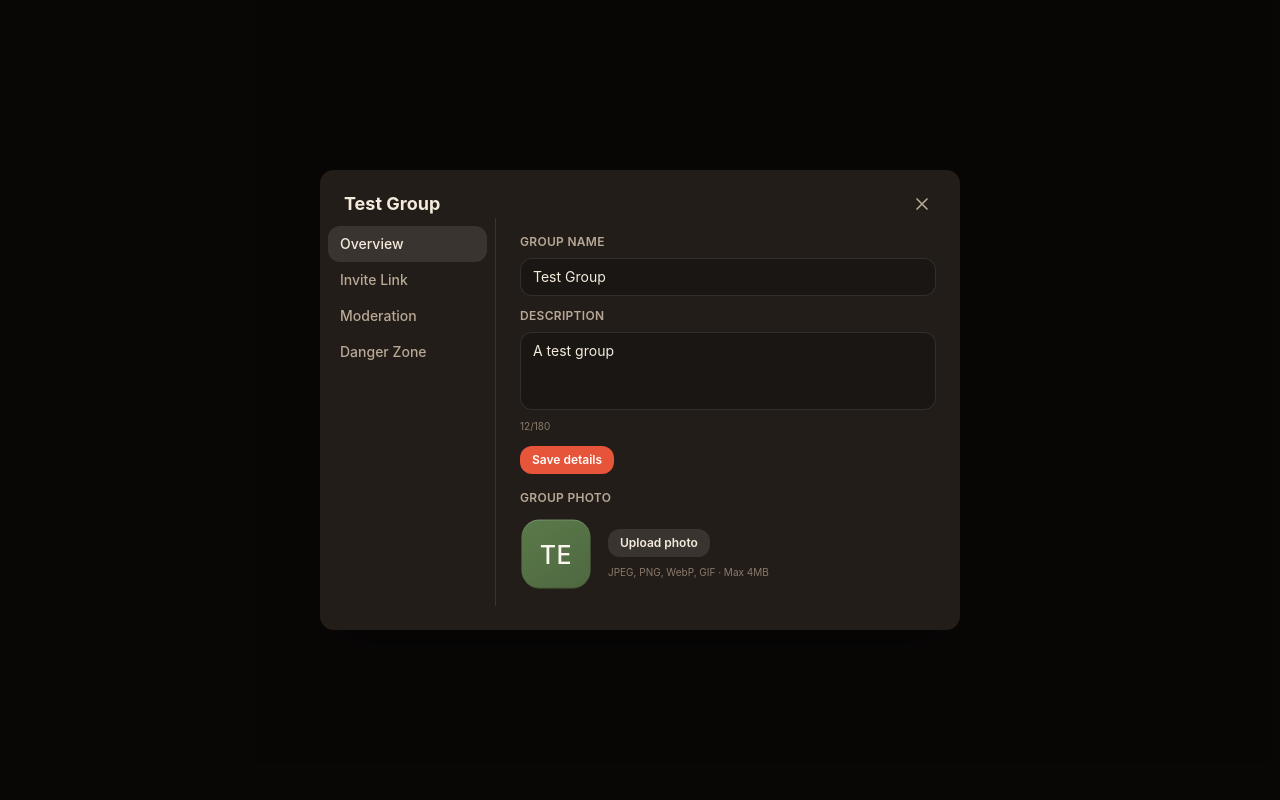
Test: GroupSettingsModal › regenerates invite links for owners
The width and height of the screenshot is (1280, 800).
Click the button with test id "nav-invite" at (408, 280), box [328,262,487,298]
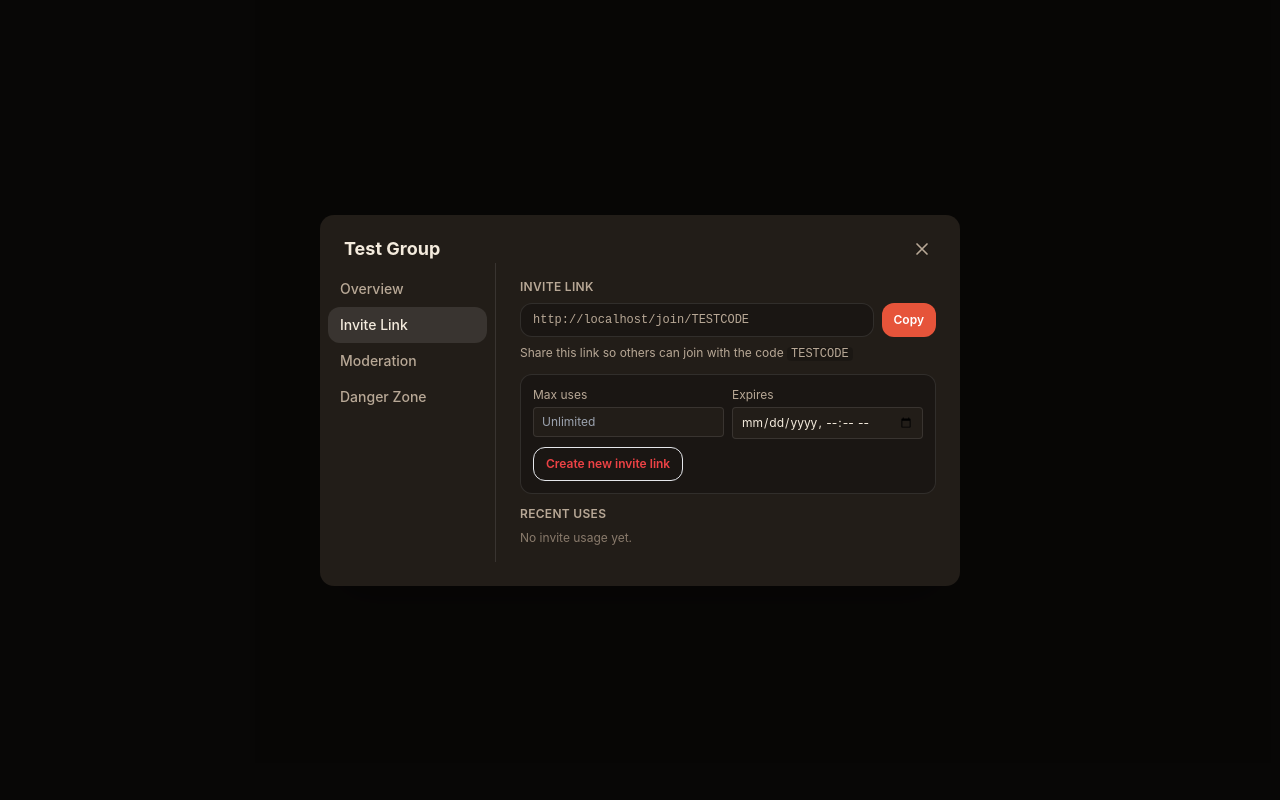
Type "2" into the number field labelled "Max uses" at (628, 422), box [533,406,724,436]
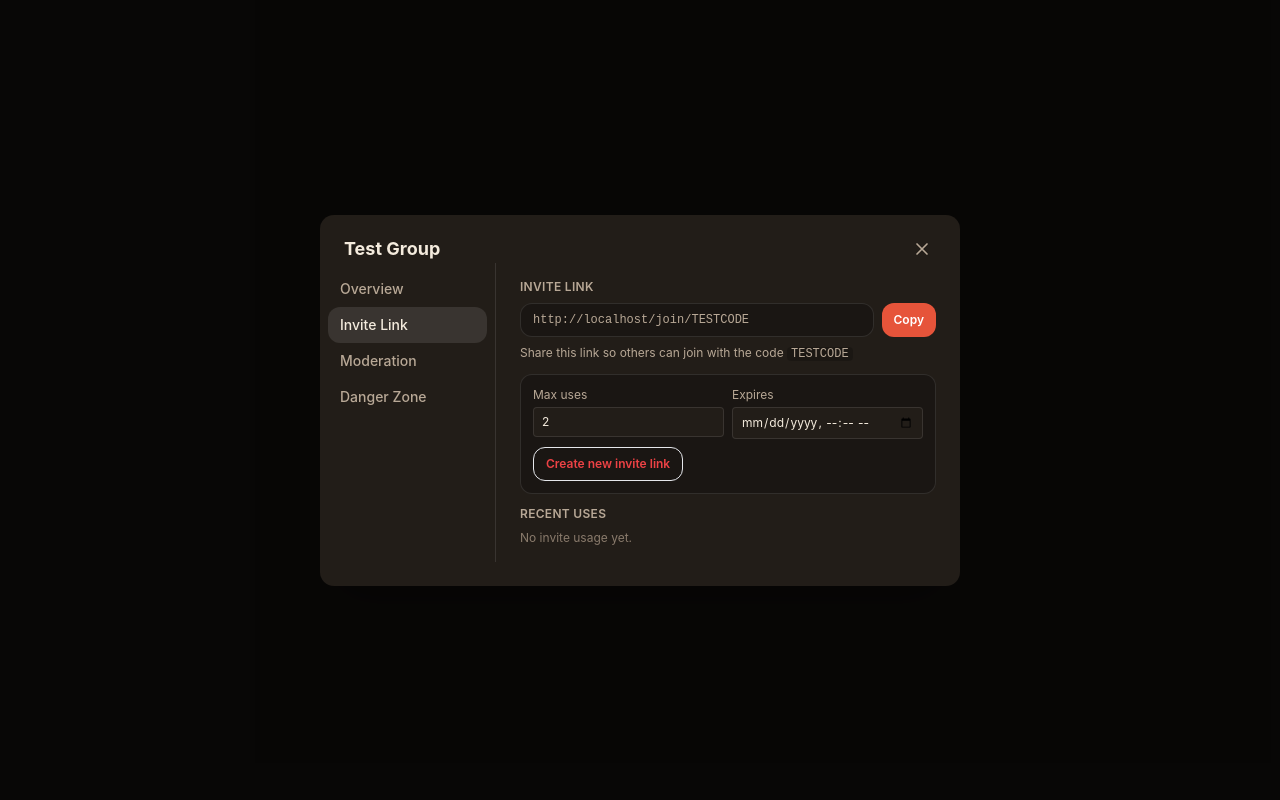
Click the button "Create new invite link" at (608, 464), box [533,446,683,480]
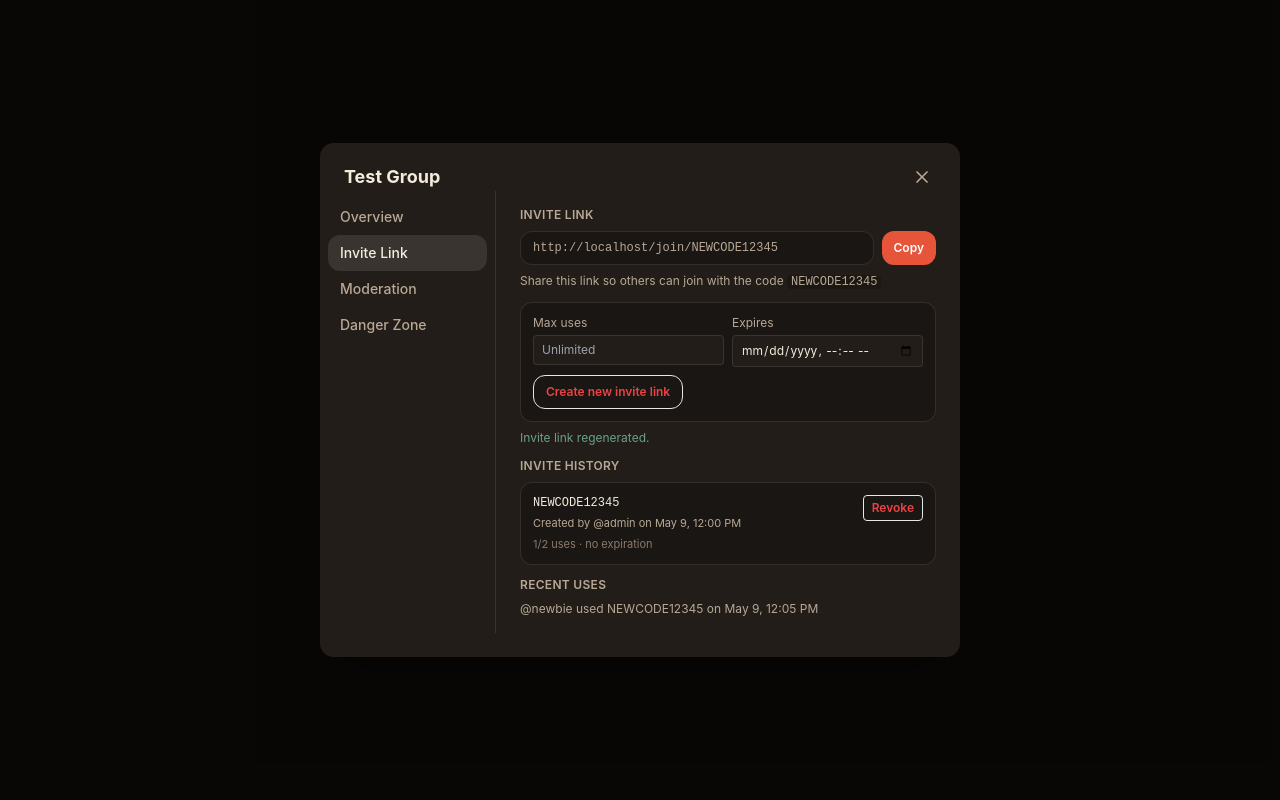
expect the field showing "NEWCODE12345" is shown: met, box [520,231,874,265]
expect the text "Invite link regenerated." is shown: met, box [520,430,650,445]
